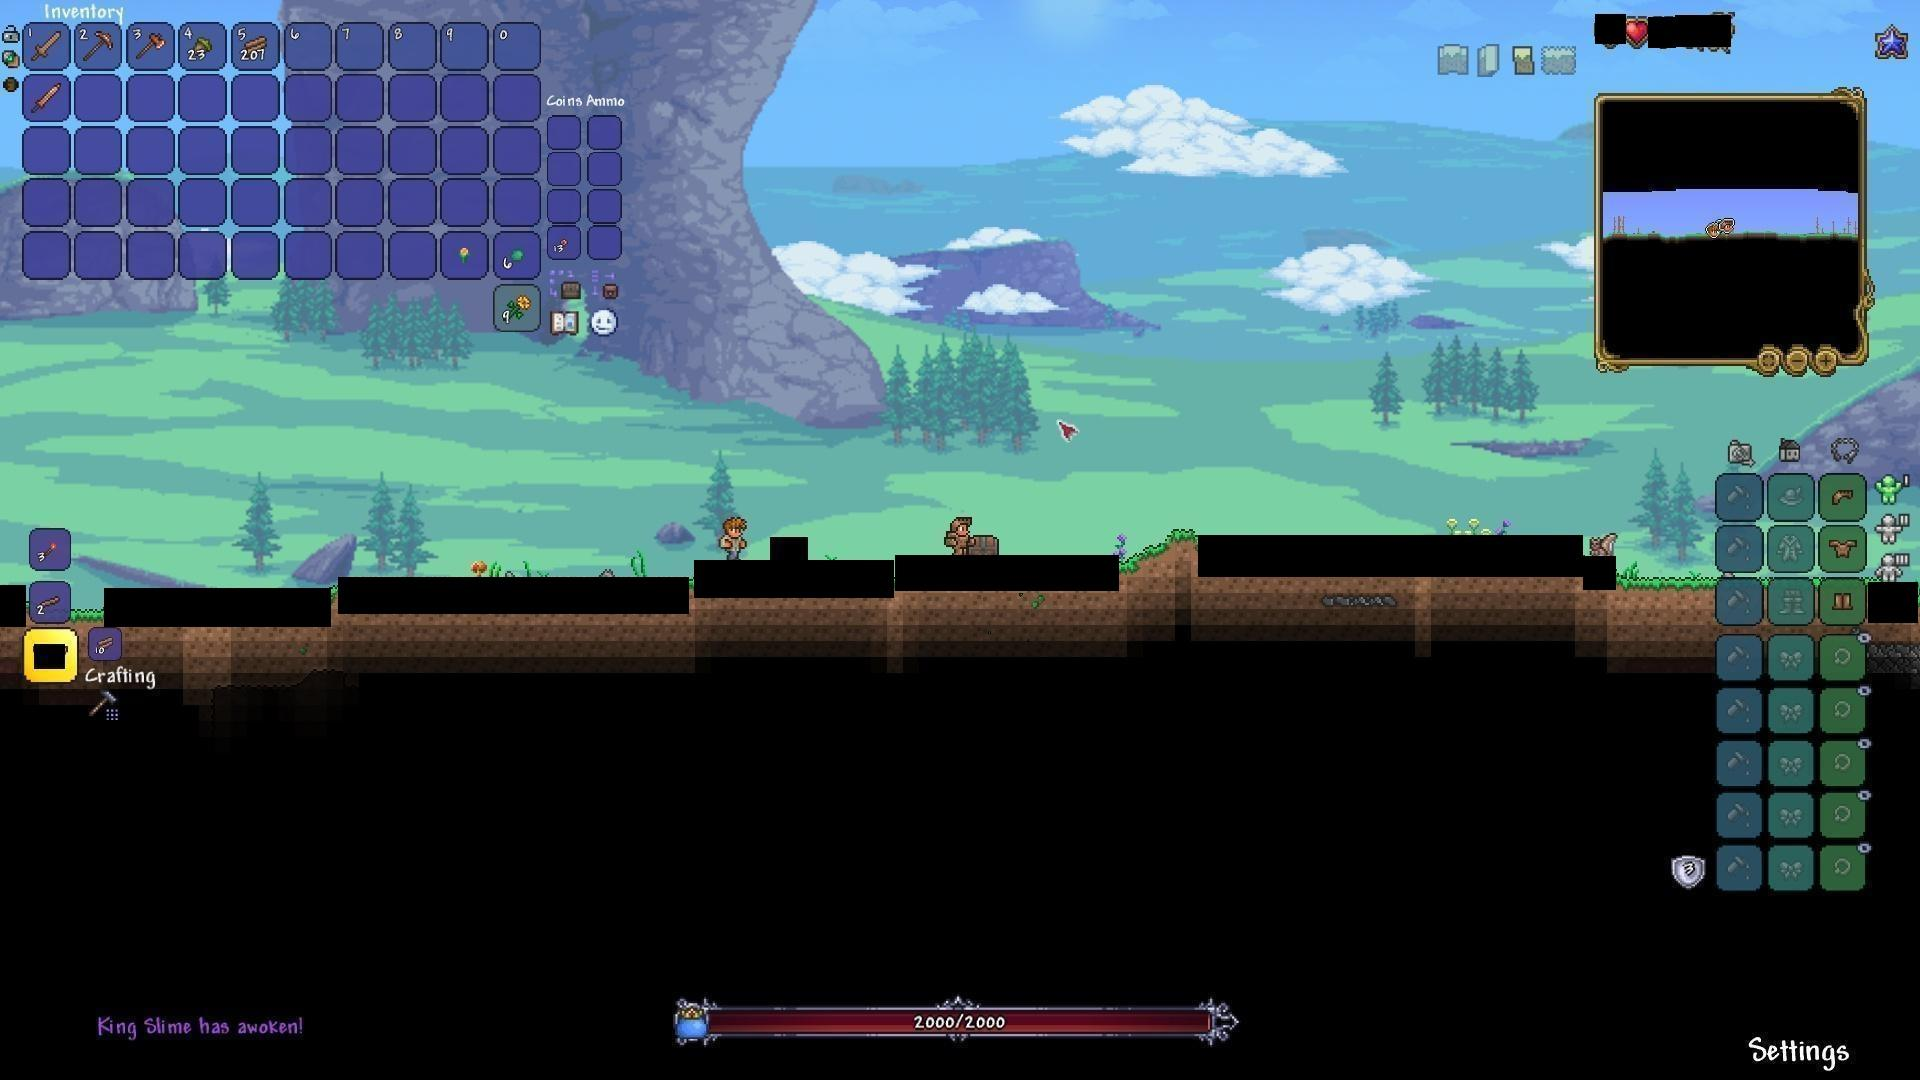breastplate: (1829, 537, 1859, 558)
dirt: (1121, 525, 1196, 576), (1619, 567, 1713, 597)
heart: (1625, 17, 1651, 46)
helmet: (1826, 483, 1858, 510)
legs: (1832, 588, 1855, 616)
wood: (239, 29, 272, 59), (88, 629, 120, 659)
